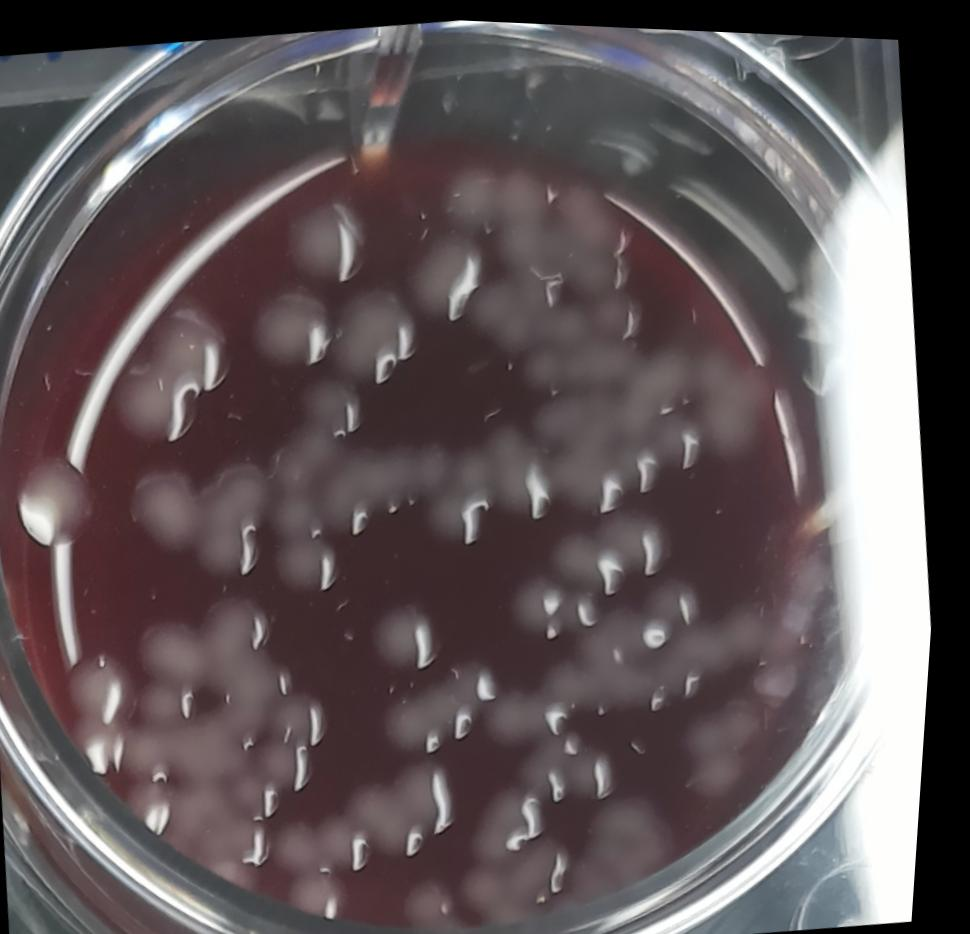vharveyi: (279, 749, 482, 881), (497, 498, 687, 639), (124, 446, 293, 586), (100, 293, 254, 446), (221, 674, 355, 824), (133, 577, 292, 691), (384, 648, 517, 755), (327, 271, 431, 388), (13, 447, 119, 556), (437, 141, 558, 236), (521, 711, 635, 811), (279, 185, 384, 292), (247, 278, 341, 372), (363, 588, 459, 678), (405, 222, 497, 314), (62, 643, 155, 728), (279, 528, 355, 600), (290, 861, 365, 926)
